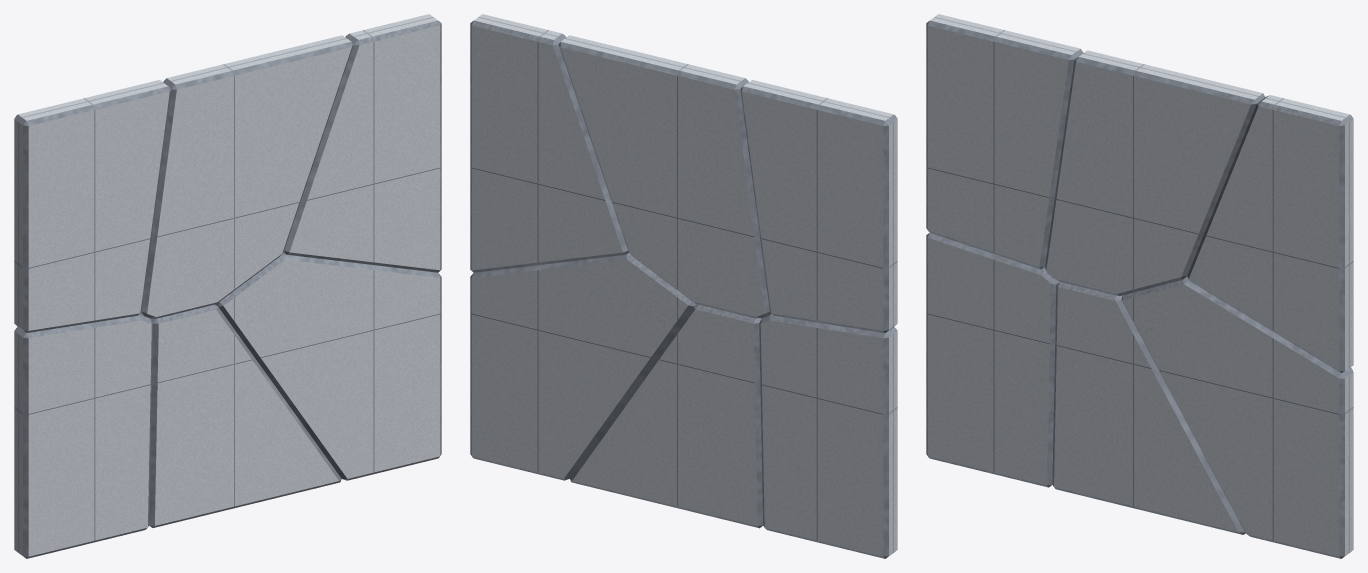
The model's file is Kit_Steel_Wall_Fractured.glb.
3 renders of one model, left to right at view 1: azimuth 30°, elevation 25°; view 2: azimuth 150°, elevation 25°; view 3: azimuth 330°, elevation 25°, orthographic.
Visible parts, largest first — view 1: Kit_Steel_Wall_frag_04, Kit_Steel_Wall_frag_05, Kit_Steel_Wall_frag_02, Kit_Steel_Wall_frag_01, Kit_Steel_Wall_frag_06, Kit_Steel_Wall_frag_03; view 2: Kit_Steel_Wall_frag_04, Kit_Steel_Wall_frag_05, Kit_Steel_Wall_frag_02, Kit_Steel_Wall_frag_01, Kit_Steel_Wall_frag_06, Kit_Steel_Wall_frag_03; view 3: Kit_Steel_Wall_frag_05, Kit_Steel_Wall_frag_04, Kit_Steel_Wall_frag_06, Kit_Steel_Wall_frag_02, Kit_Steel_Wall_frag_01, Kit_Steel_Wall_frag_03.
Part boxes in pixels (x1,y1,x2,y2): Kit_Steel_Wall_frag_04: (140, 35, 353, 318); Kit_Steel_Wall_frag_05: (215, 253, 441, 480); Kit_Steel_Wall_frag_02: (14, 80, 171, 332); Kit_Steel_Wall_frag_01: (14, 313, 153, 558); Kit_Steel_Wall_frag_06: (283, 14, 441, 272); Kit_Steel_Wall_frag_03: (149, 304, 341, 527); Kit_Steel_Wall_frag_04: (558, 35, 770, 318); Kit_Steel_Wall_frag_05: (470, 252, 696, 480); Kit_Steel_Wall_frag_02: (740, 80, 897, 332); Kit_Steel_Wall_frag_01: (759, 313, 897, 558); Kit_Steel_Wall_frag_06: (470, 14, 628, 272); Kit_Steel_Wall_frag_03: (570, 304, 762, 528); Kit_Steel_Wall_frag_05: (1121, 276, 1353, 558); Kit_Steel_Wall_frag_04: (1045, 50, 1264, 296); Kit_Steel_Wall_frag_06: (1187, 95, 1353, 372); Kit_Steel_Wall_frag_02: (926, 14, 1083, 269); Kit_Steel_Wall_frag_01: (926, 233, 1059, 487); Kit_Steel_Wall_frag_03: (1052, 282, 1245, 534).
Size of what is drawn, in the model's own units: 3 by 3 by 0.16.
2 materials, 2 textured.
